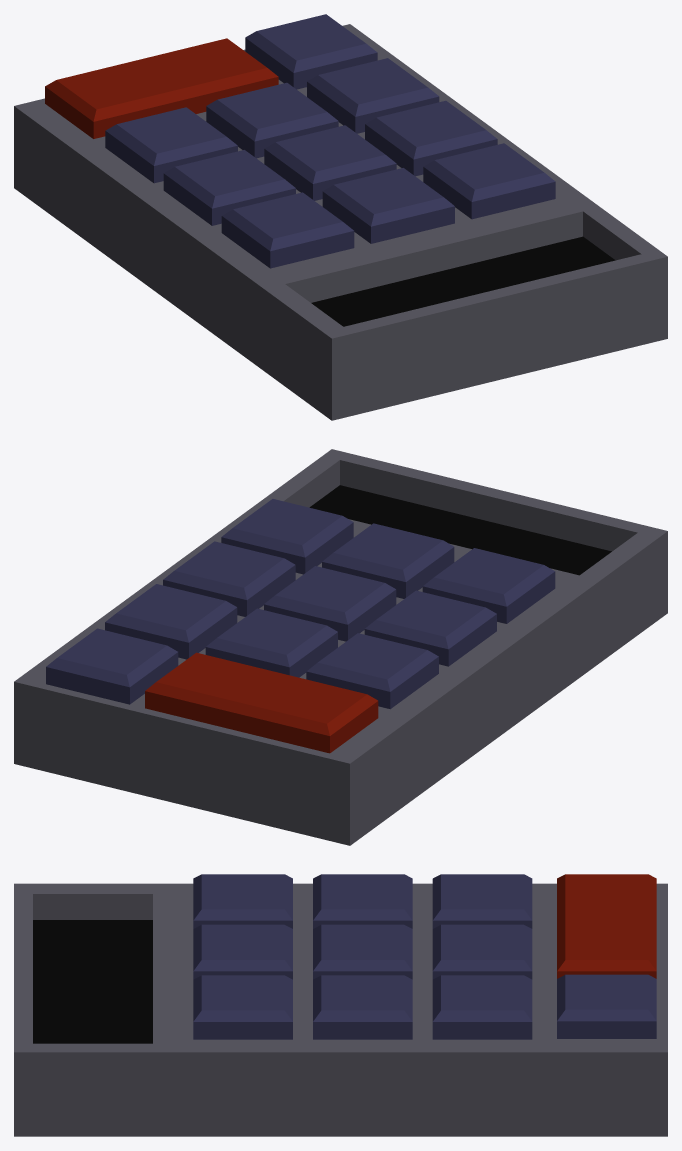
File: numped.fbx
The picture shows the model from 3 angles, top to bottom: view 1: azimuth 30°, elevation 25°; view 2: azimuth 150°, elevation 25°; view 3: azimuth 270°, elevation 25°; orthographic projection. The views are drawn at different scales.
Parts seen in each view (by area): view 1: Cube.003, Cube, Cube.001, Cube.002; view 2: Cube.003, Cube, Cube.001, Cube.002; view 3: Cube.003, Cube, Cube.001, Cube.002.
Boxes of the visible parts, x1=… form: Cube.003: x1=14, y1=24, x2=667, y2=420; Cube: x1=105, y1=58, x2=555, y2=268; Cube.001: x1=45, y1=38, x2=278, y2=138; Cube.002: x1=245, y1=14, x2=377, y2=89; Cube.003: x1=14, y1=449, x2=667, y2=845; Cube: x1=105, y1=499, x2=555, y2=709; Cube.001: x1=145, y1=652, x2=378, y2=753; Cube.002: x1=46, y1=628, x2=178, y2=704; Cube.003: x1=14, y1=883, x2=667, y2=1136; Cube: x1=193, y1=874, x2=532, y2=1039; Cube.001: x1=557, y1=874, x2=656, y2=978; Cube.002: x1=557, y1=974, x2=656, y2=1038.
Bounding box in the file's own units: 51.5 × 15.69 × 84.37.
